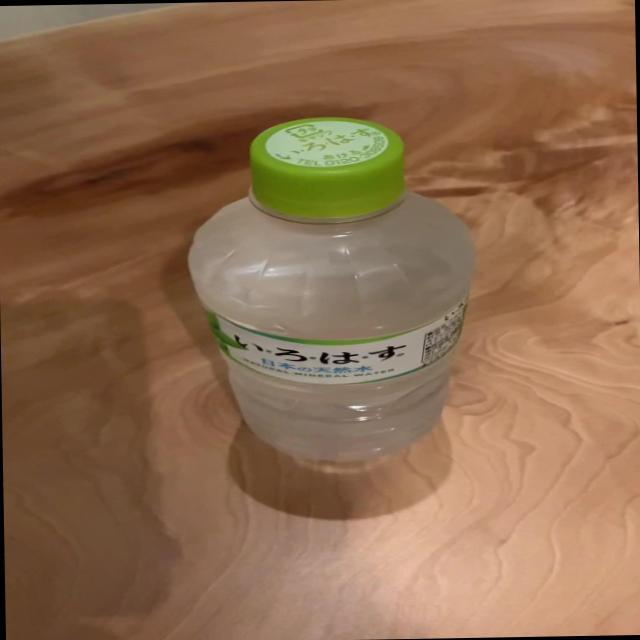good: (181, 111, 477, 466)
